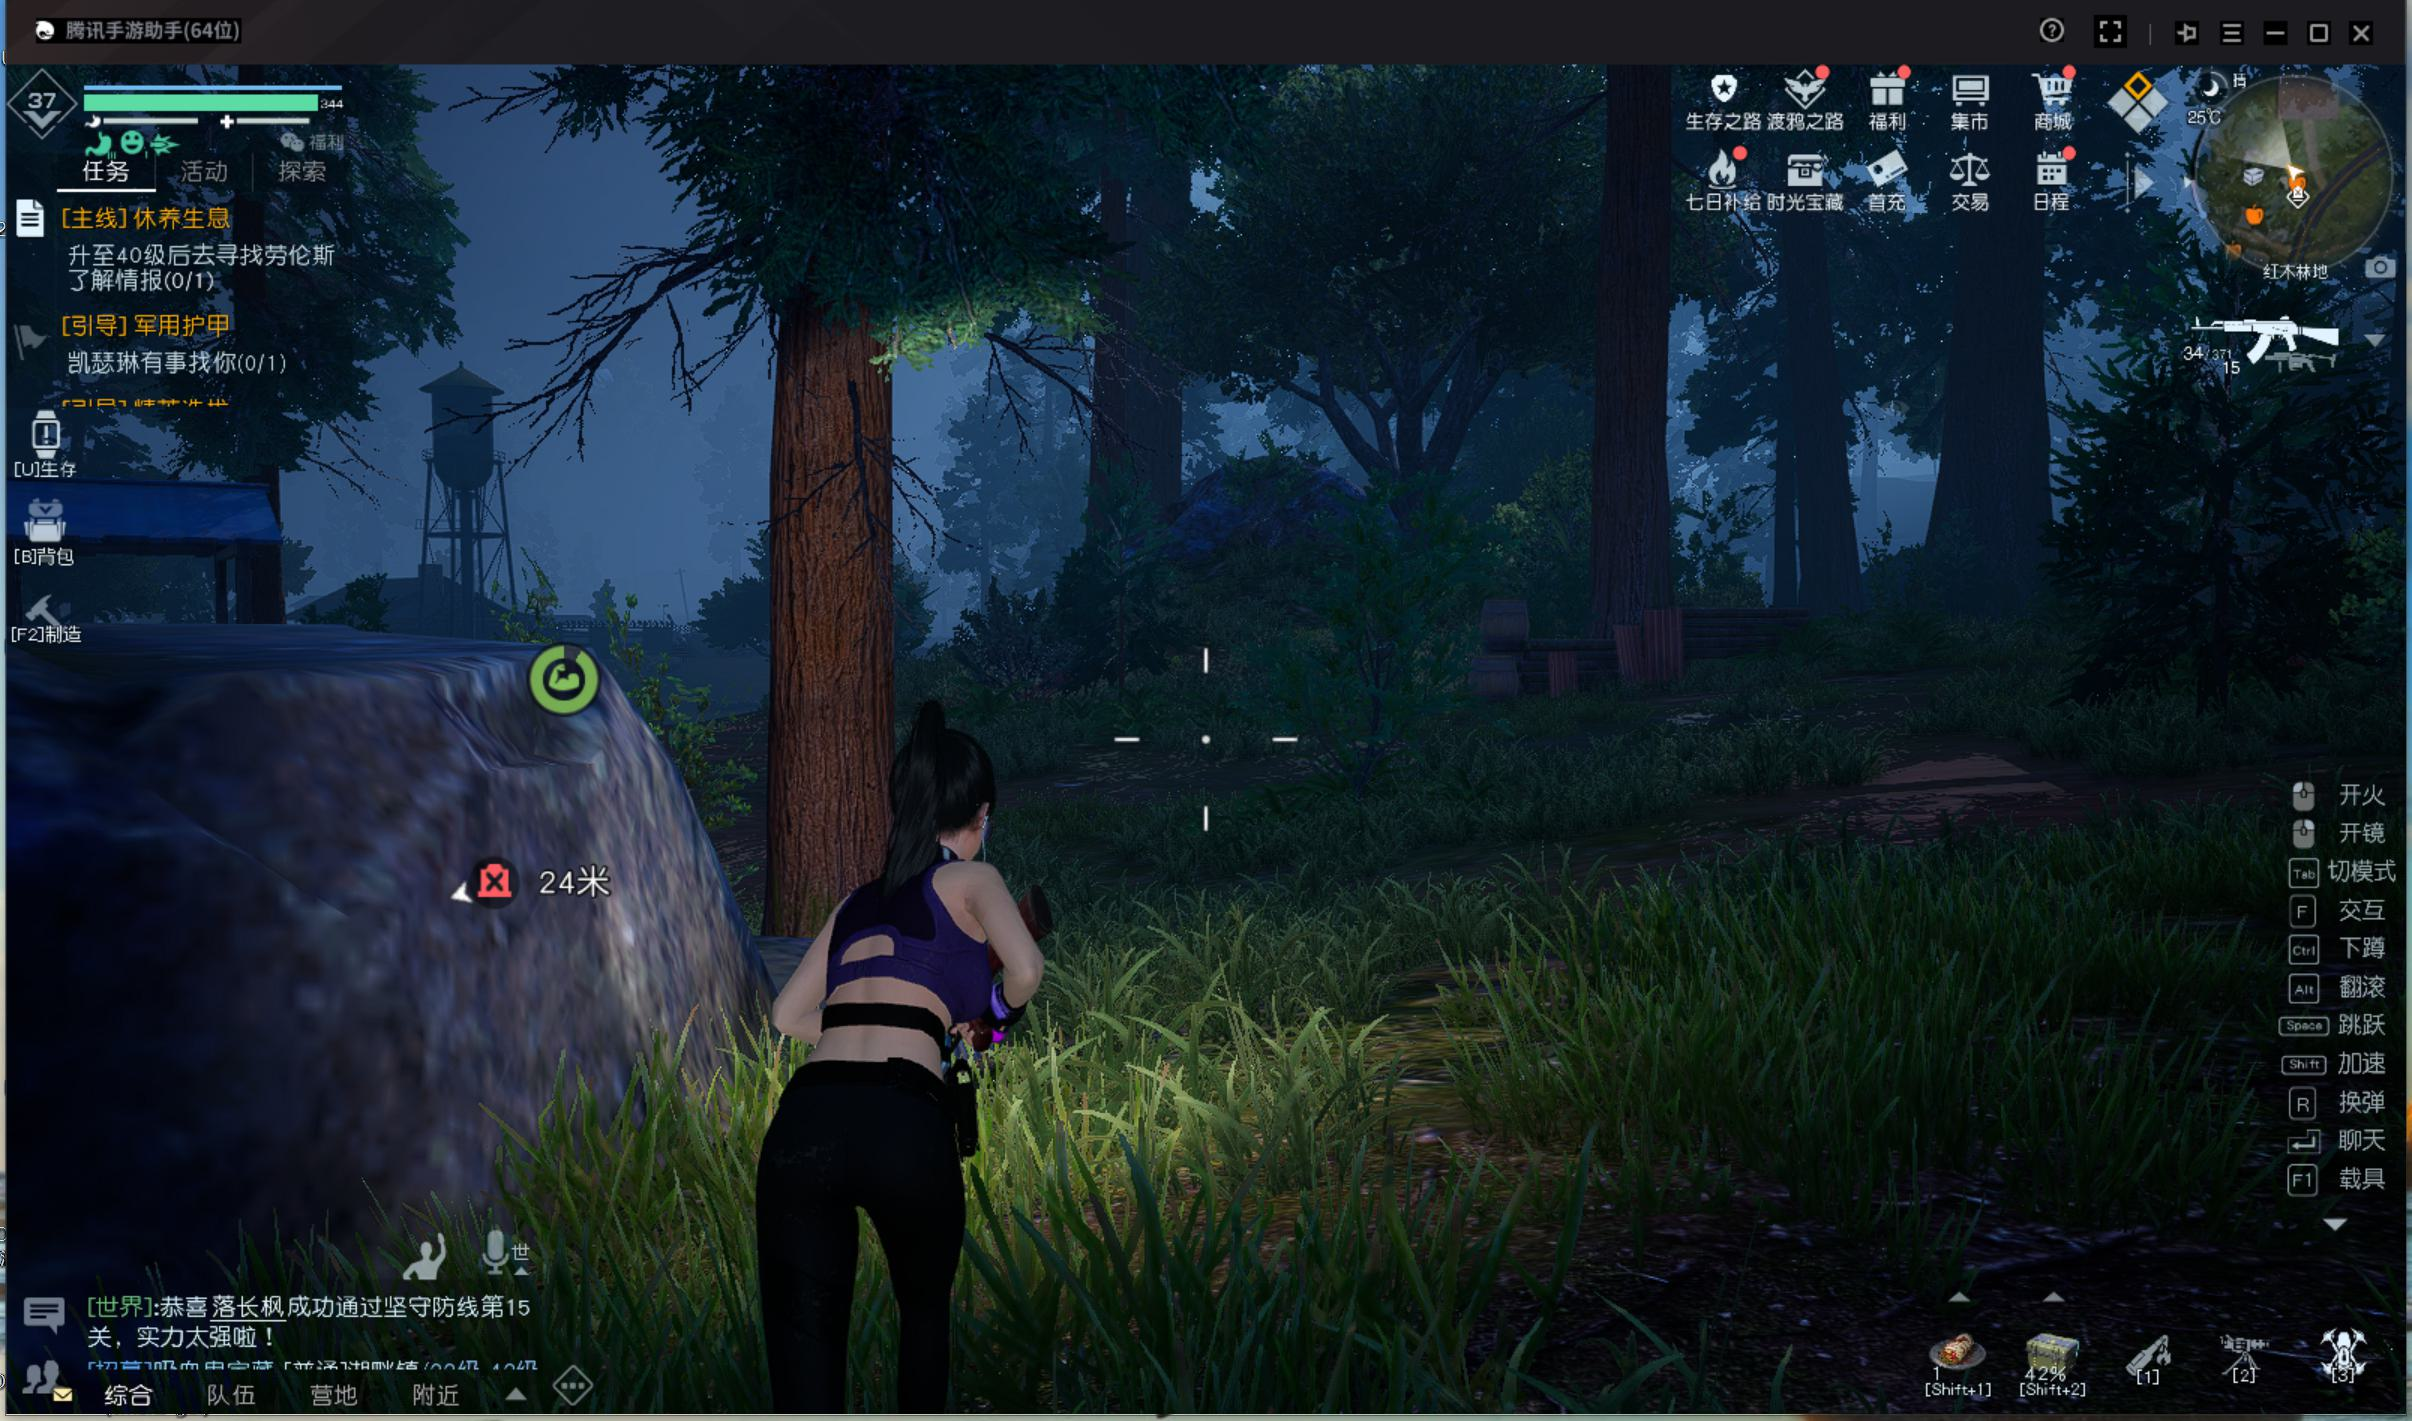tree: (746, 299, 895, 934), (1923, 252, 2065, 646), (1575, 255, 1683, 709), (1779, 304, 1859, 626), (1086, 343, 1189, 529)
